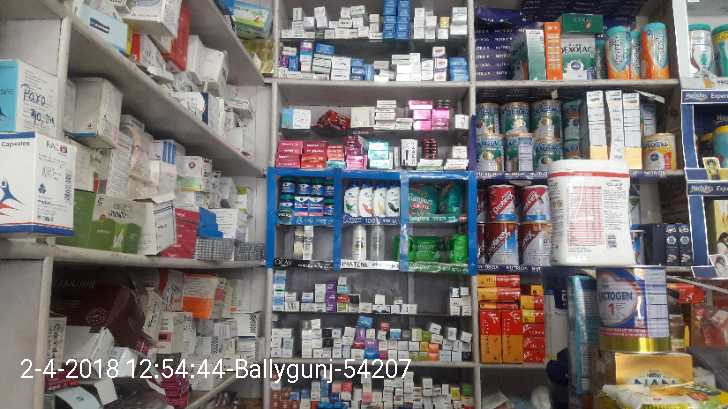vicks: (281, 177, 336, 217)
